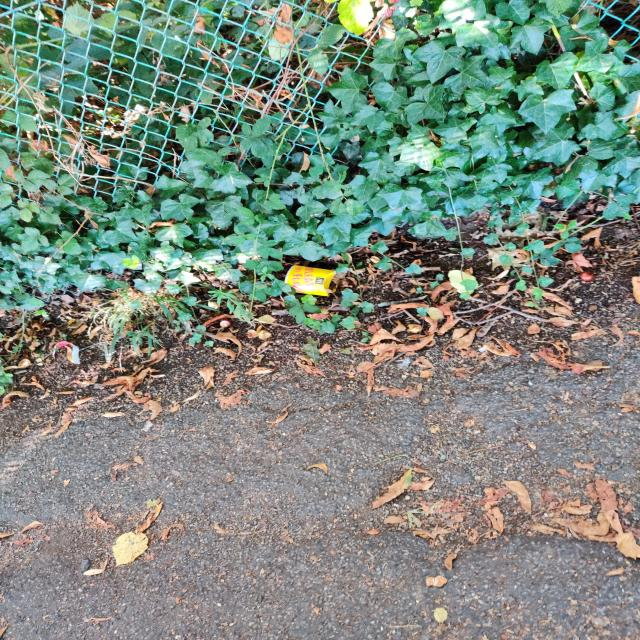litter: (281, 263, 339, 299)
